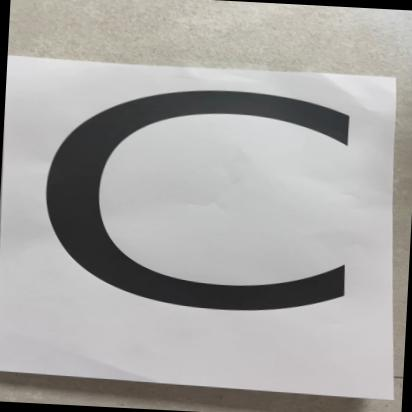seat: (0, 46, 412, 412)
